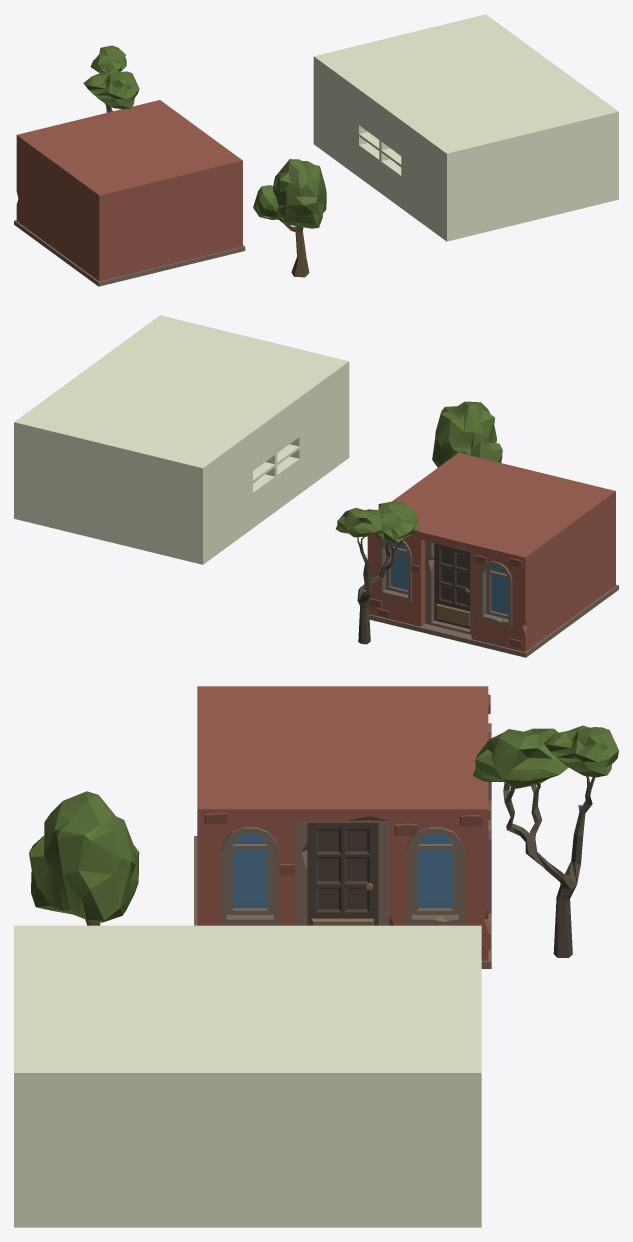
File: SM_Env_Tree_03.glb
3 views of the same model, one above another, from view 1: azimuth 30°, elevation 25°; view 2: azimuth 150°, elevation 25°; view 3: azimuth 270°, elevation 25° (orthographic). The views are drawn at different scales.
Visible parts, largest first — view 1: SM_Env_Tree_03; view 2: SM_Env_Tree_03; view 3: SM_Env_Tree_03.
Boxes of the visible parts, x1,y1,x2,y2 form: SM_Env_Tree_03: [14, 14, 618, 286]; SM_Env_Tree_03: [14, 315, 618, 657]; SM_Env_Tree_03: [14, 686, 618, 1227].
Bounding box in the file's own units: 16.35 × 4.42 × 10.39.
Materials: 2 (1 with a texture image).
